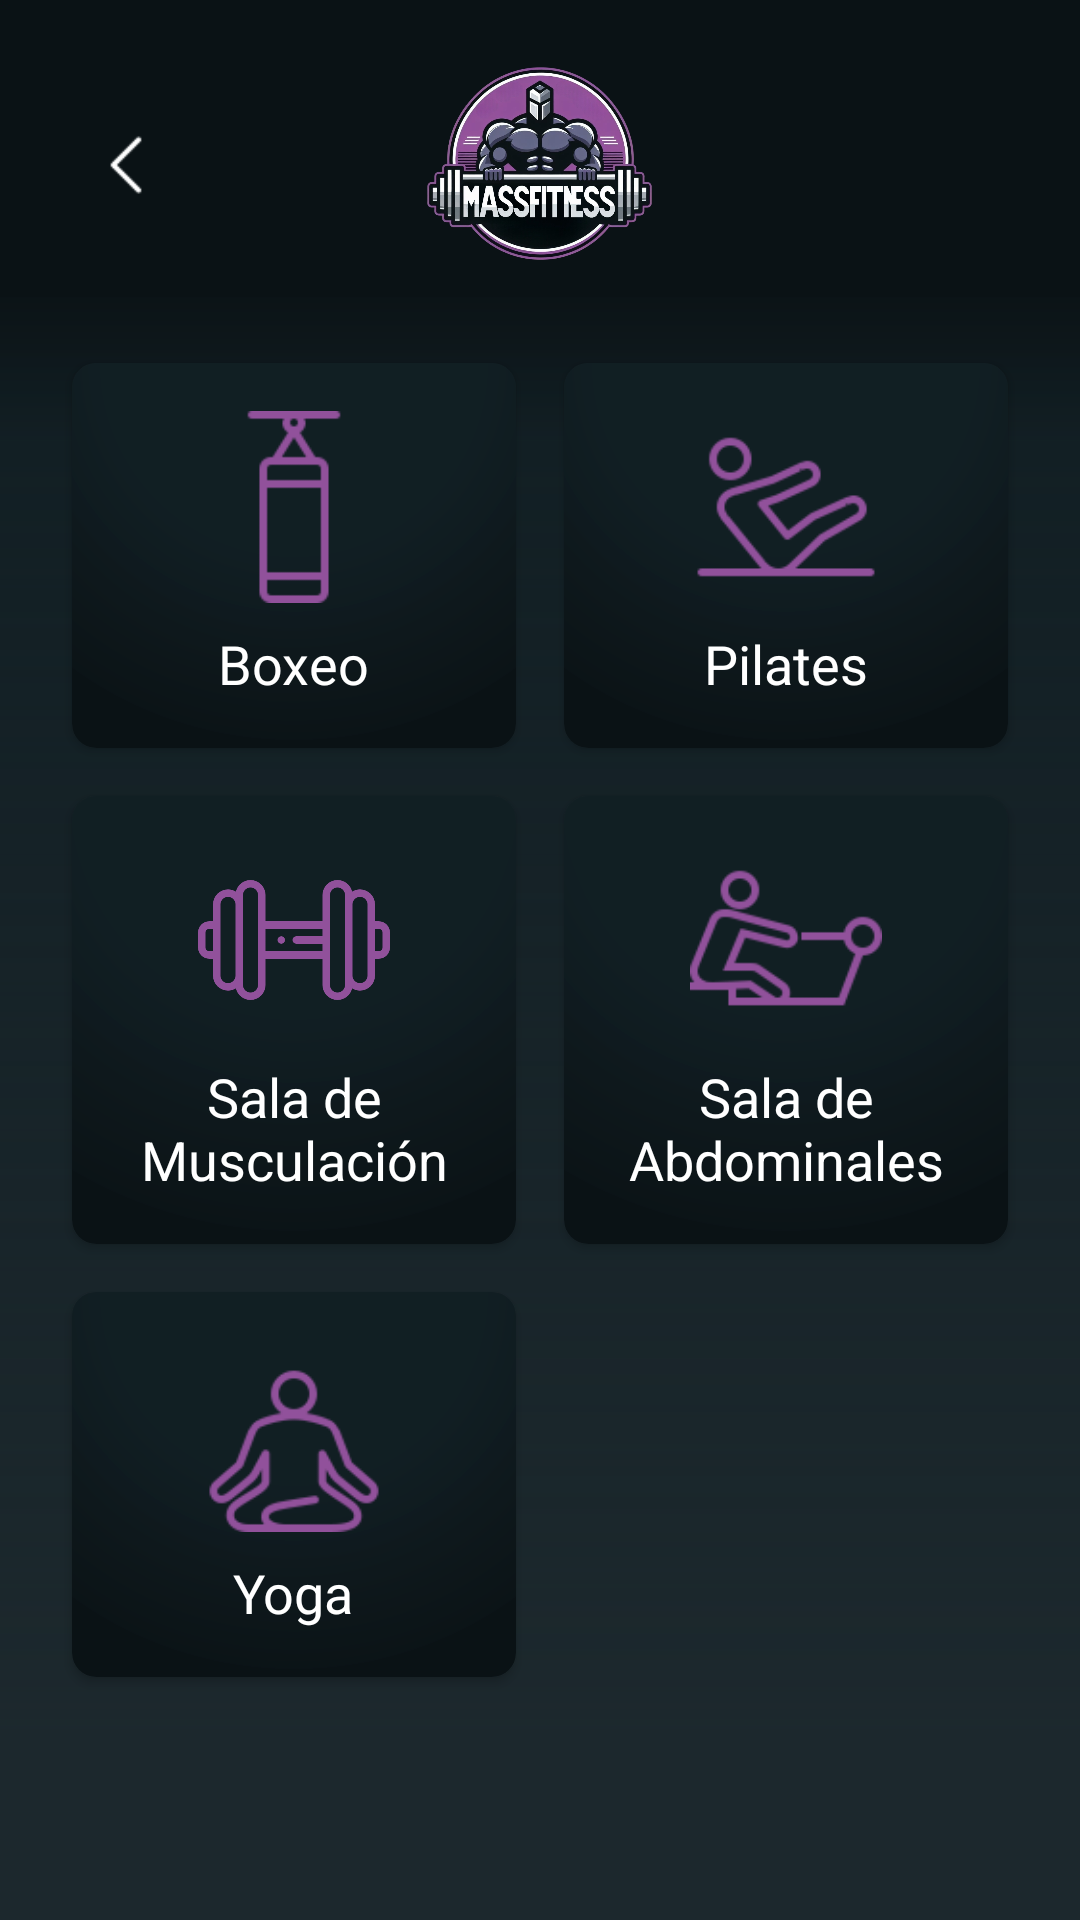

Icons on this 1080 × 1920 Android screen, each with the point to tap as (x,y):
atras: (126,165)
Weight Room: (294,940)
